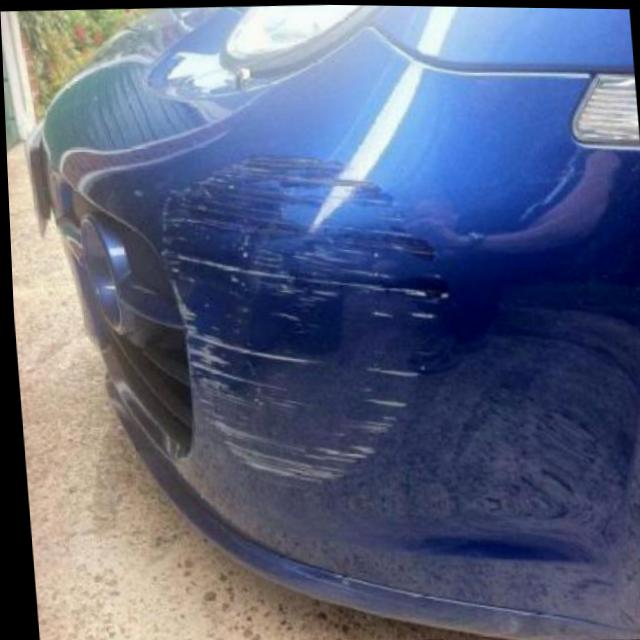Scratch: (153, 145, 460, 504)
